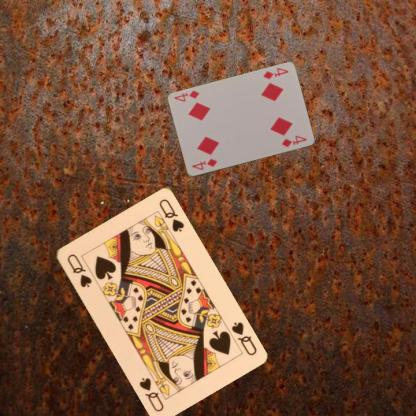4d: (260, 65, 290, 81), (189, 156, 218, 172)
Qs: (228, 319, 258, 357), (64, 251, 93, 288)
